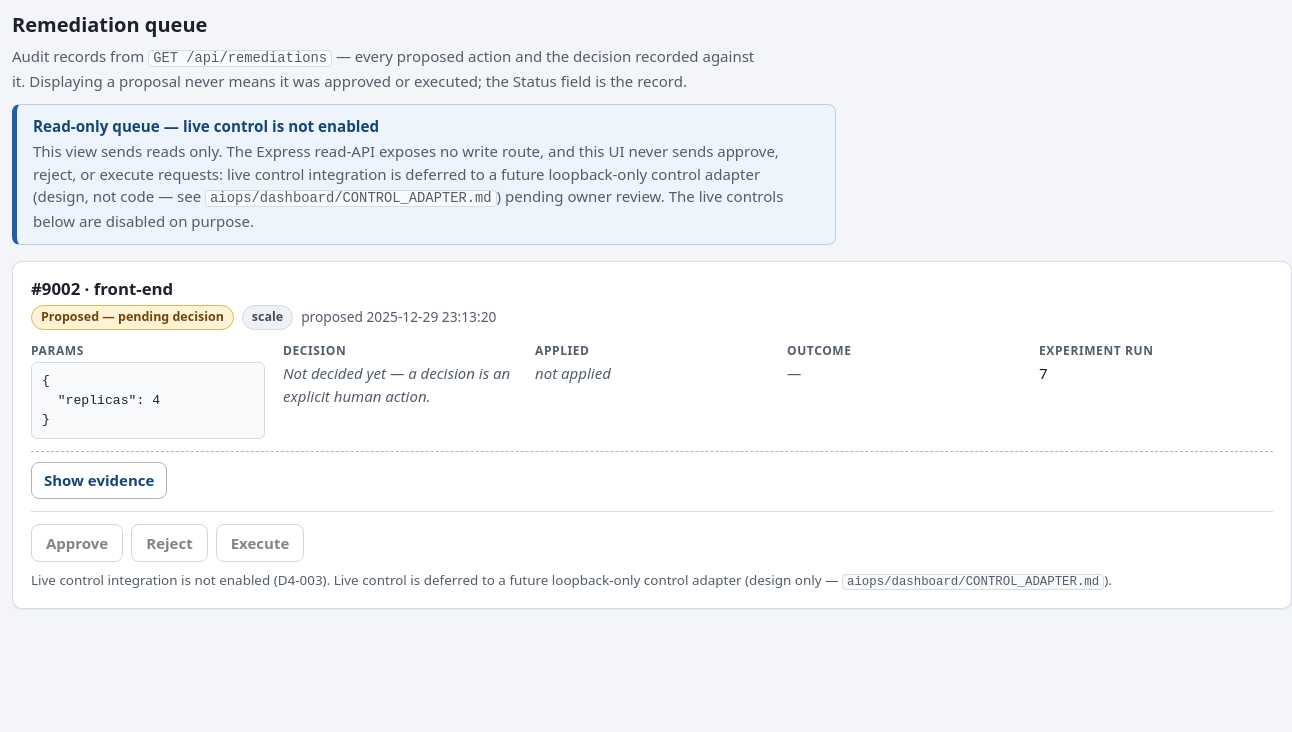
Test: remediation queue (live) — audit-record mapping › says so when a record carries no evidence bundle
Click the button "Show evidence".
click(99, 480)  # box left=31, top=462, right=167, bottom=499
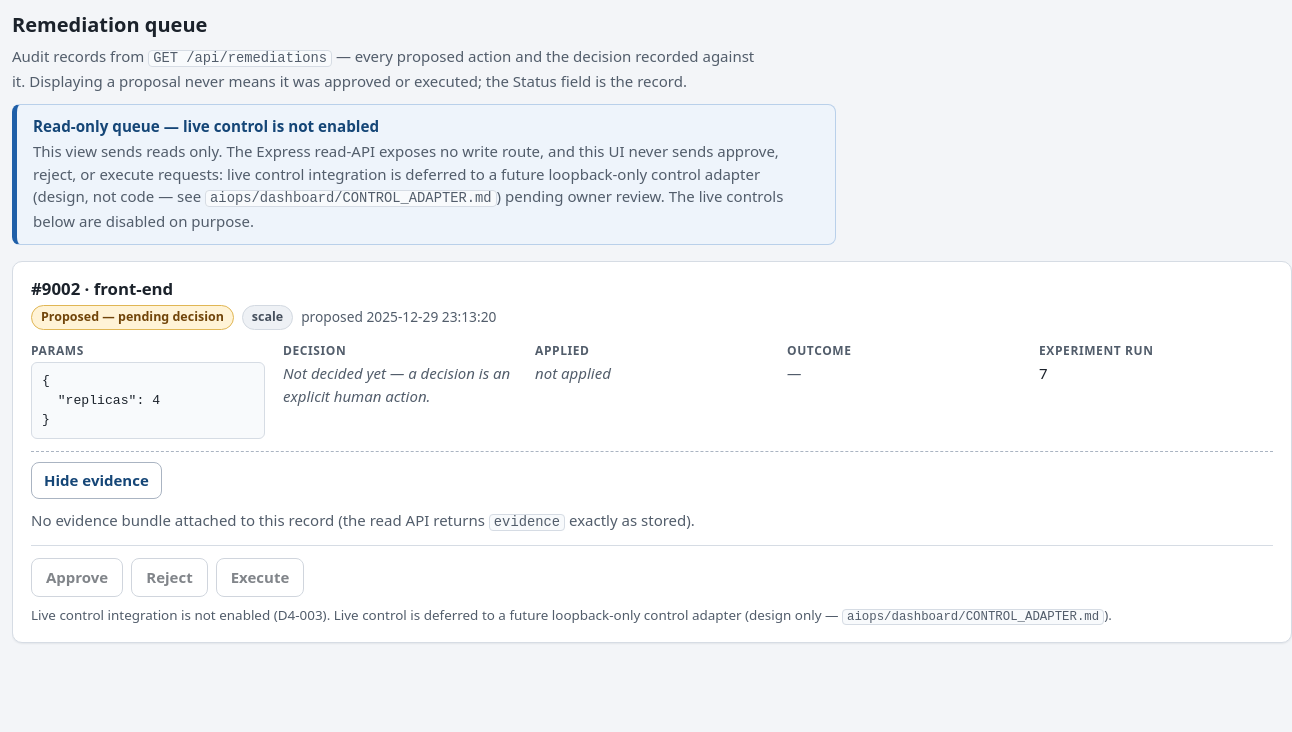
Check: the text "No evidence bundle attached to this record" is shown, box left=31, top=510, right=485, bottom=530
